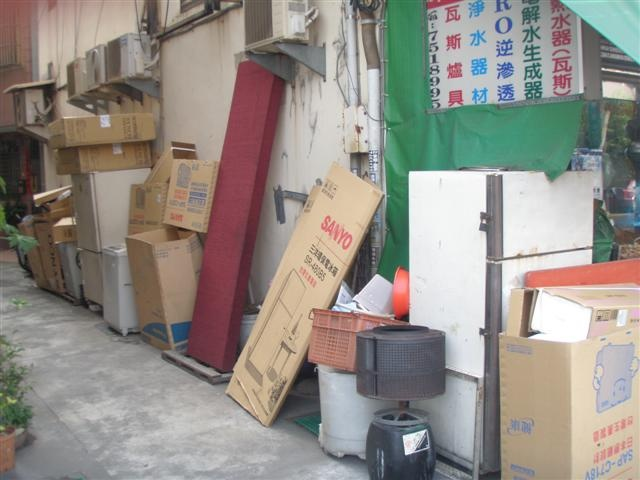box: (495, 327, 640, 479), (125, 226, 204, 349), (161, 158, 221, 234), (44, 113, 157, 148), (53, 138, 152, 173), (52, 216, 79, 246)
bucket: (317, 363, 398, 459), (355, 324, 447, 398), (366, 420, 436, 480)
